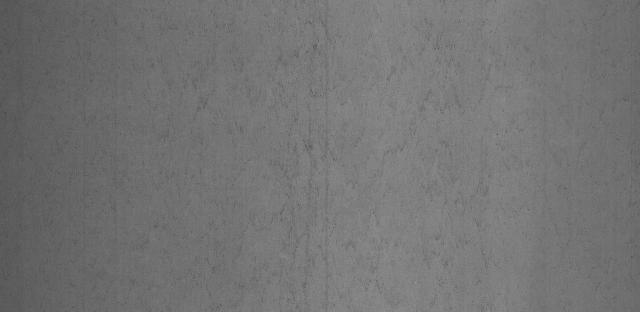silk_spot: (401, 20, 638, 298), (222, 18, 397, 291)
